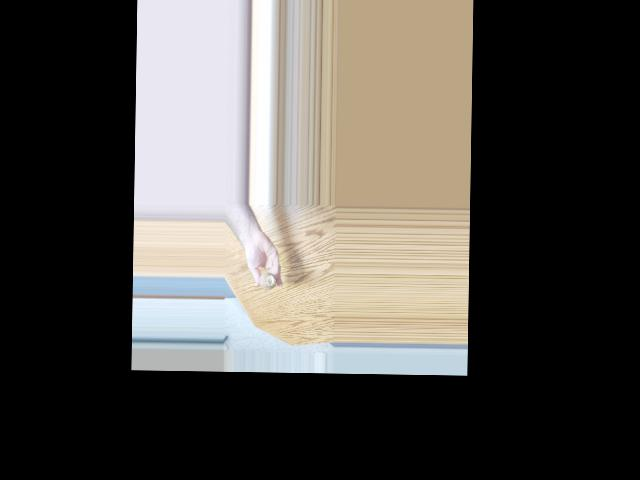sweet_potato: (256, 274, 275, 290)
